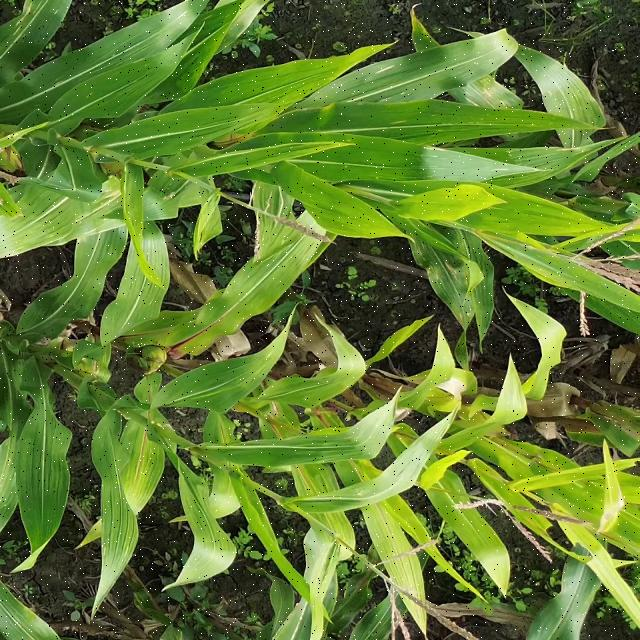gray-leaf-spot: (410, 236, 482, 325), (460, 78, 529, 114), (9, 5, 65, 46)
